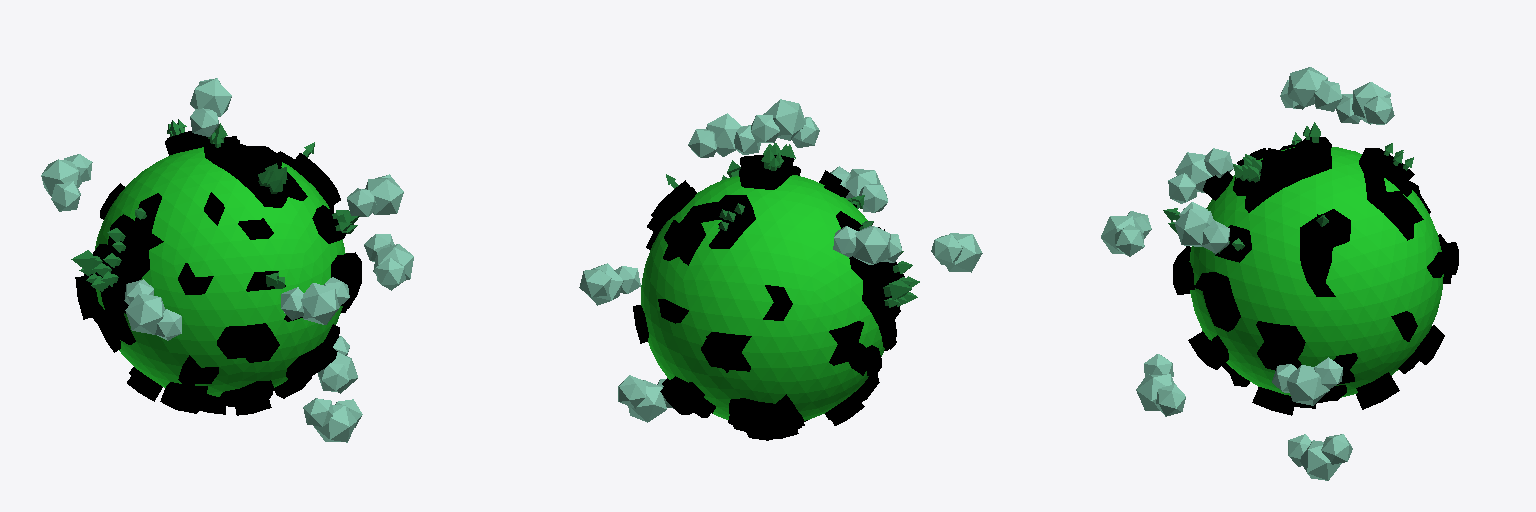
The model's file is world1.obj.
The picture shows the model from 3 angles: view 1: azimuth 30°, elevation 25°; view 2: azimuth 150°, elevation 25°; view 3: azimuth 270°, elevation 25°; orthographic projection.
Parts seen in each view (by area): view 1: Icosphere.025, Icosphere, Icosphere.004, Icosphere.019, Icosphere.001, Icosphere.007, Icosphere.016, Icosphere.022, Icosphere.023, Icosphere.015, Icosphere.012, Icosphere.018 (+5 smaller); view 2: Icosphere.025, Icosphere, Icosphere.022, Icosphere.001, Icosphere.007, Icosphere.010, Icosphere.019, Icosphere.011, Icosphere.014, Icosphere.021, Icosphere.002, Icosphere.008 (+5 smaller); view 3: Icosphere.025, Icosphere, Icosphere.013, Icosphere.001, Icosphere.007, Icosphere.010, Icosphere.016, Icosphere.019, Icosphere.017, Icosphere.011, Icosphere.022, Icosphere.024 (+7 smaller).
Boxes of the visible parts, x1=… form: Icosphere.025: x1=95, y1=147, x2=345, y2=396; Icosphere: x1=75, y1=131, x2=361, y2=415; Icosphere.004: x1=301, y1=283, x2=339, y2=324; Icosphere.019: x1=125, y1=294, x2=164, y2=334; Icosphere.001: x1=190, y1=79, x2=231, y2=116; Icosphere.007: x1=365, y1=178, x2=403, y2=214; Icosphere.016: x1=314, y1=405, x2=356, y2=442; Icosphere.022: x1=41, y1=159, x2=81, y2=196; Icosphere.023: x1=51, y1=181, x2=80, y2=211; Icosphere.015: x1=375, y1=258, x2=405, y2=290; Icosphere.012: x1=318, y1=364, x2=349, y2=391; Icosphere.018: x1=303, y1=398, x2=333, y2=426; Icosphere.025: x1=641, y1=175, x2=884, y2=420; Icosphere: x1=633, y1=155, x2=904, y2=440; Icosphere.022: x1=853, y1=226, x2=890, y2=264; Icosphere.001: x1=763, y1=99, x2=805, y2=140; Icosphere.007: x1=706, y1=113, x2=742, y2=156; Icosphere.010: x1=628, y1=380, x2=666, y2=422; Icosphere.019: x1=945, y1=233, x2=982, y2=272; Icosphere.011: x1=618, y1=375, x2=645, y2=408; Icosphere.014: x1=579, y1=269, x2=611, y2=296; Icosphere.021: x1=931, y1=234, x2=962, y2=264; Icosphere.002: x1=751, y1=115, x2=779, y2=142; Icosphere.008: x1=688, y1=129, x2=716, y2=157; Icosphere.025: x1=1189, y1=147, x2=1443, y2=397; Icosphere: x1=1173, y1=137, x2=1458, y2=415; Icosphere.013: x1=1287, y1=365, x2=1329, y2=405; Icosphere.001: x1=1288, y1=67, x2=1327, y2=107; Icosphere.007: x1=1174, y1=209, x2=1213, y2=246; Icosphere.010: x1=1300, y1=440, x2=1341, y2=480; Icosphere.016: x1=1136, y1=374, x2=1174, y2=410; Icosphere.019: x1=1175, y1=152, x2=1212, y2=192; Icosphere.017: x1=1155, y1=384, x2=1185, y2=416; Icosphere.011: x1=1321, y1=434, x2=1352, y2=464; Icosphere.022: x1=1352, y1=82, x2=1390, y2=124; Icosphere.024: x1=1364, y1=96, x2=1394, y2=124.
Size of the model in its own units: 20.7 by 20.25 by 18.97.